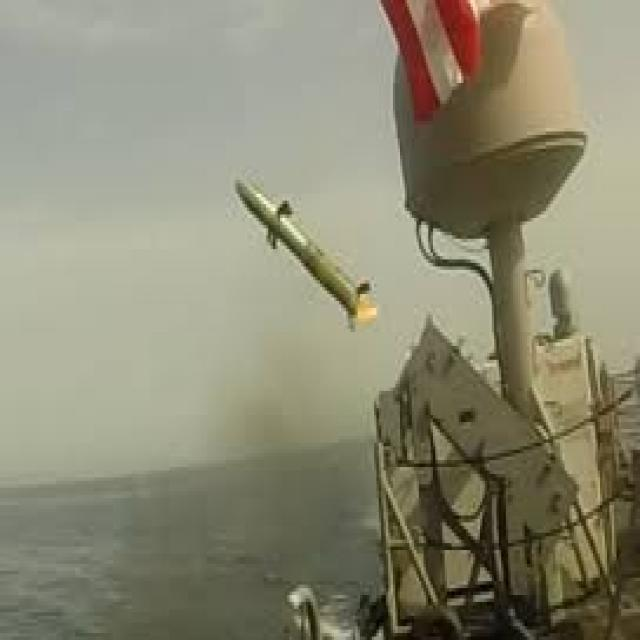Missile: (232, 165, 373, 319)
